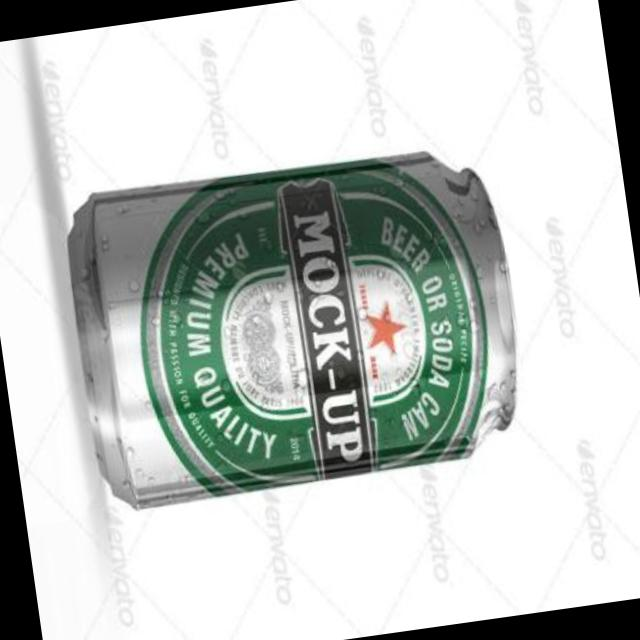metal: (71, 151, 516, 505)
